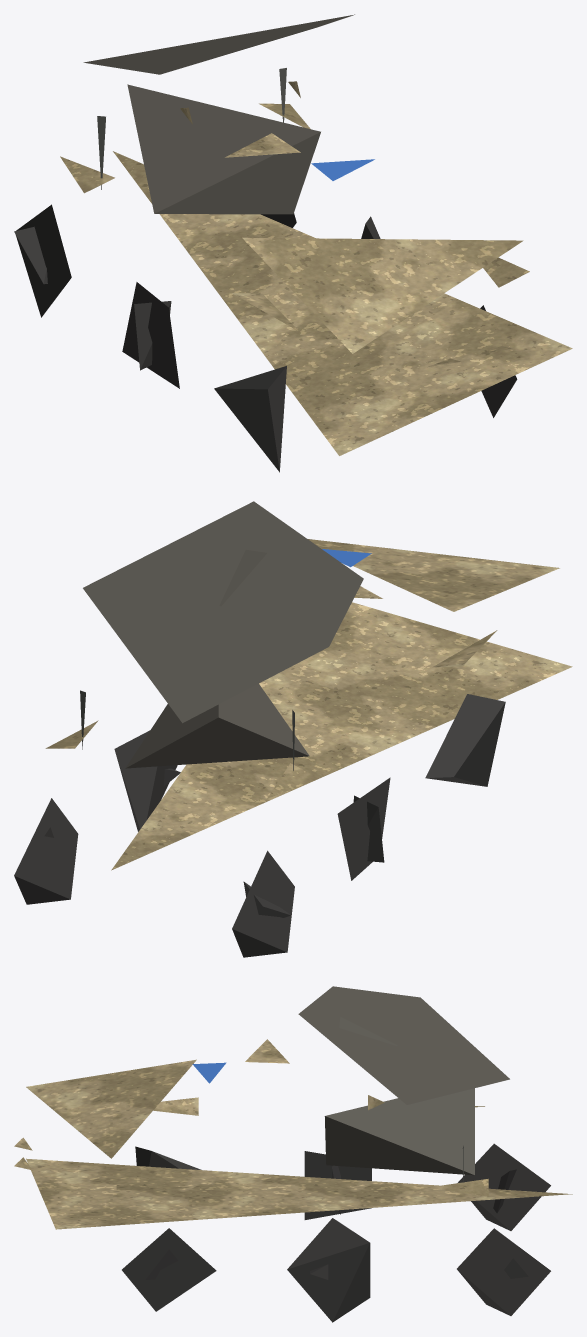
File: rad_e4_us_illuminator_LOD2.glb
3 views of the same model, one above another, from view 1: azimuth 30°, elevation 25°; view 2: azimuth 150°, elevation 25°; view 3: azimuth 270°, elevation 25° (orthographic). The views are drawn at different scales.
Visible parts, largest first — view 1: rad_e4_us_illuminator_LOD2_body, rad_e4_us_illuminator_LOD2_deck, rad_e4_us_illuminator_LOD2_track, rad_e4_us_illuminator_LOD2_team, rad_e4_us_illuminator_LOD2_gun; view 2: rad_e4_us_illuminator_LOD2_deck, rad_e4_us_illuminator_LOD2_body, rad_e4_us_illuminator_LOD2_track; view 3: rad_e4_us_illuminator_LOD2_body, rad_e4_us_illuminator_LOD2_deck, rad_e4_us_illuminator_LOD2_track.
Part boxes in pixels (x1,y1,x2,y2): rad_e4_us_illuminator_LOD2_body: (60,81,572,455); rad_e4_us_illuminator_LOD2_deck: (83,14,354,214); rad_e4_us_illuminator_LOD2_track: (14,204,517,472); rad_e4_us_illuminator_LOD2_team: (311,159,374,180); rad_e4_us_illuminator_LOD2_gun: (97,68,286,189); rad_e4_us_illuminator_LOD2_deck: (83,501,363,768); rad_e4_us_illuminator_LOD2_body: (45,539,572,870); rad_e4_us_illuminator_LOD2_track: (14,694,505,957); rad_e4_us_illuminator_LOD2_body: (14,1039,572,1229); rad_e4_us_illuminator_LOD2_deck: (298,986,509,1175); rad_e4_us_illuminator_LOD2_track: (122,1143,550,1322).
Size of the model in its own units: 3.04 by 3.84 by 7.17.
Materials: 5 (1 with a texture image).
